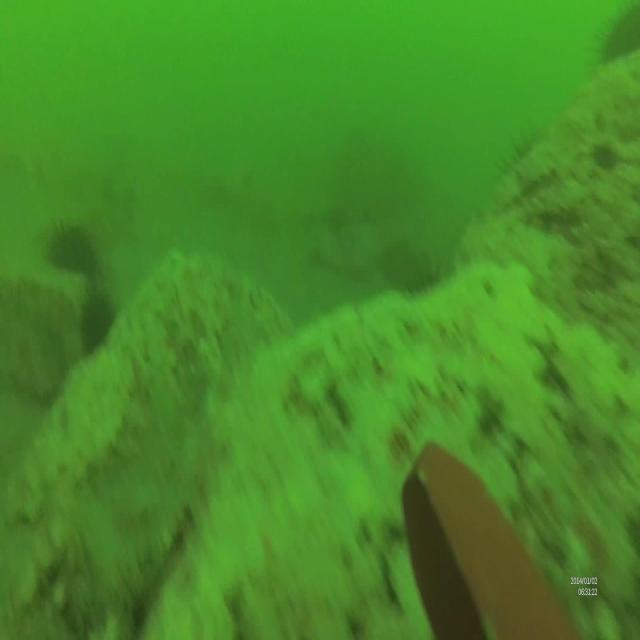echinus: (588, 1, 640, 65), (45, 222, 100, 276), (81, 282, 115, 365)
